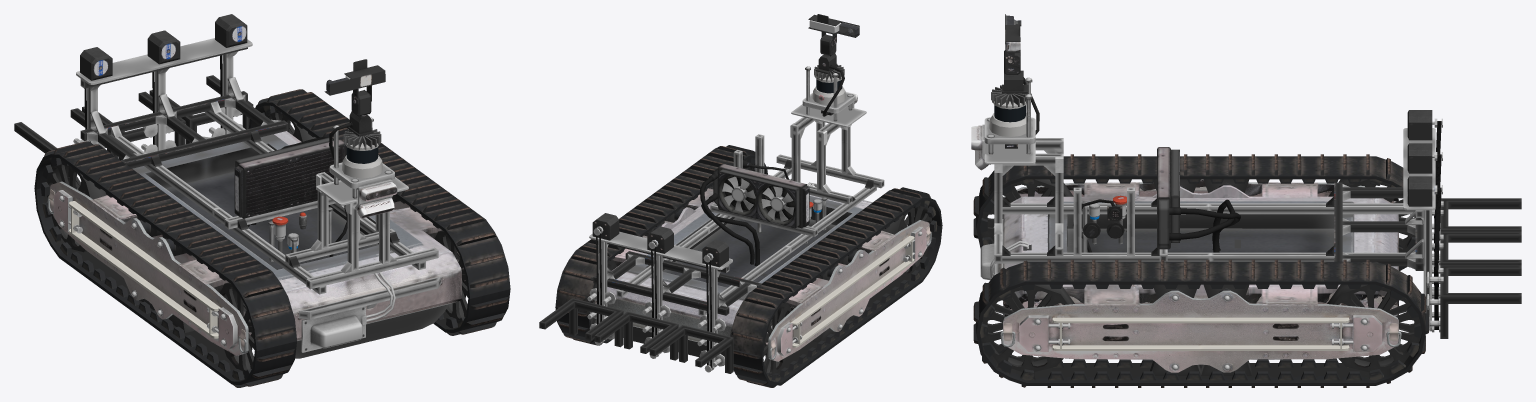
3 renders of one model, left to right at view 1: azimuth 30°, elevation 25°; view 2: azimuth 150°, elevation 25°; view 3: azimuth 270°, elevation 25°, orthographic. The views are drawn at different scales.
Parts seen in each view (by area): view 1: Body, Gripper, CameraTilt, CameraPivot; view 2: Body, Gripper, CameraTilt; view 3: Body, Gripper, CameraTilt.
Part boxes in pixels (x1=…): Body: x1=34, y1=77, x2=510, y2=387; Gripper: x1=14, y1=14, x2=253, y2=189; CameraTilt: x1=324, y1=59, x2=385, y2=104; CameraPivot: x1=351, y1=90, x2=371, y2=116; Body: x1=555, y1=53, x2=942, y2=387; Gripper: x1=539, y1=213, x2=733, y2=373; CameraTilt: x1=808, y1=14, x2=859, y2=45; Body: x1=971, y1=70, x2=1428, y2=387; Gripper: x1=1403, y1=110, x2=1521, y2=338; CameraTilt: x1=1005, y1=14, x2=1021, y2=63.
Size of the model in its own units: 12.13 by 21.63 by 13.16.
Materials: 1 (1 with a texture image).
